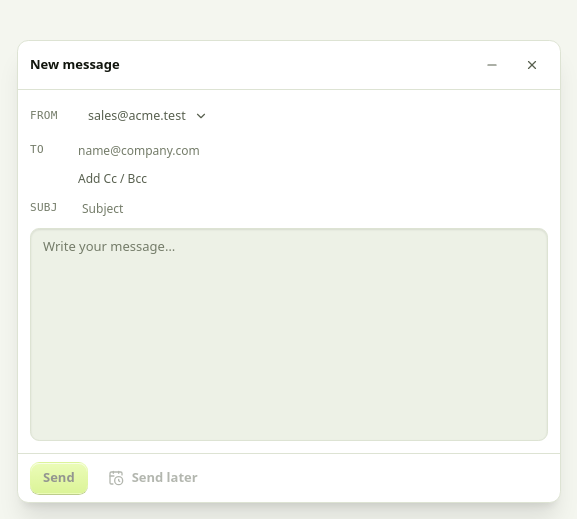
Test case: a 422 surfaces the server explanation
Expected: the button "sales@acme.test" is shown, [78,102,218,130]
Type "ada@prospect.test," into the field labelled "To".
click(311, 150); type("ada@prospect.test,")  # box [74,136,548,164]
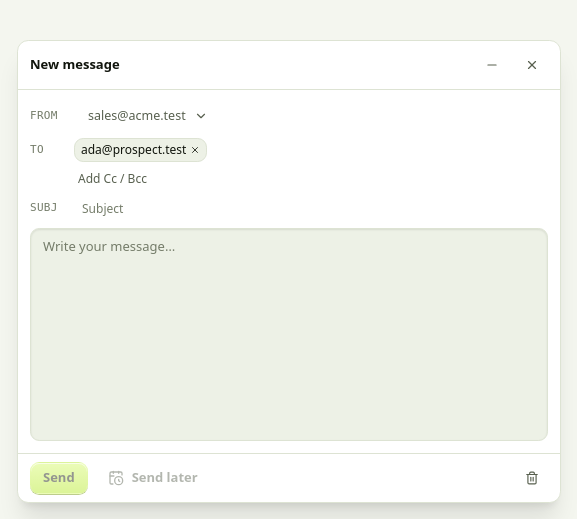
Type "Hello there" into the text box with placeholder "Write your message…".
click(289, 334); type("Hello there")  # box [30,228,548,441]
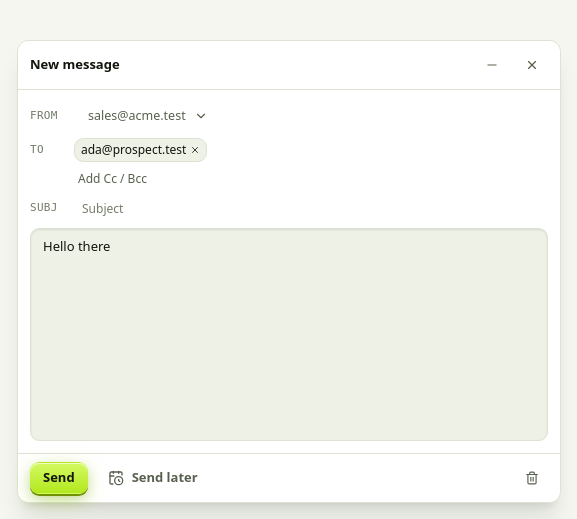
Click the button "Send".
click(59, 478)  # box [30,462,88,494]
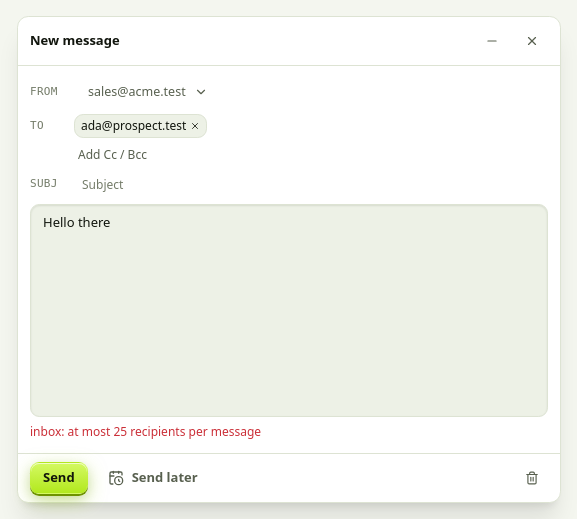
Expected: the message shows "25 recipients", [30,423,261,440]
